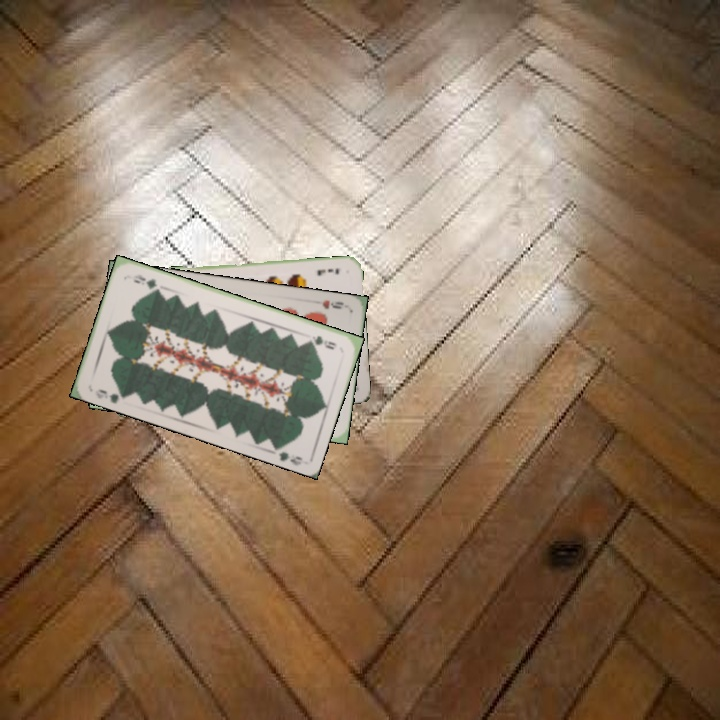E7: (313, 264, 342, 278)
G9: (91, 385, 128, 406), (303, 331, 339, 352)
H9: (318, 296, 346, 312)
